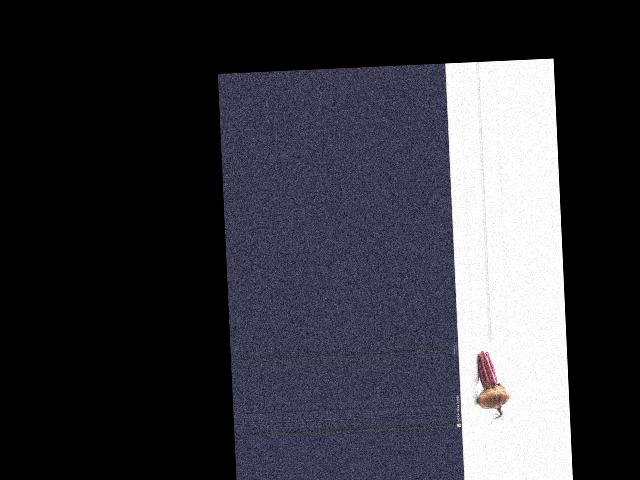beet: (475, 349, 511, 424)
